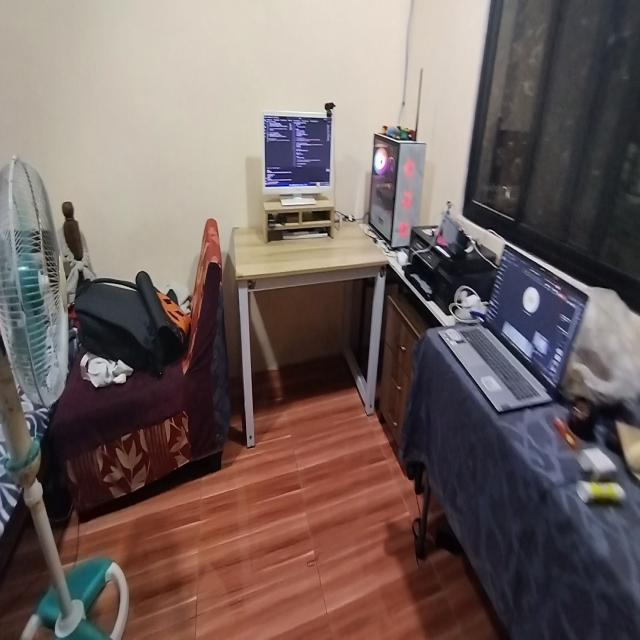table: (230, 214, 390, 445)
